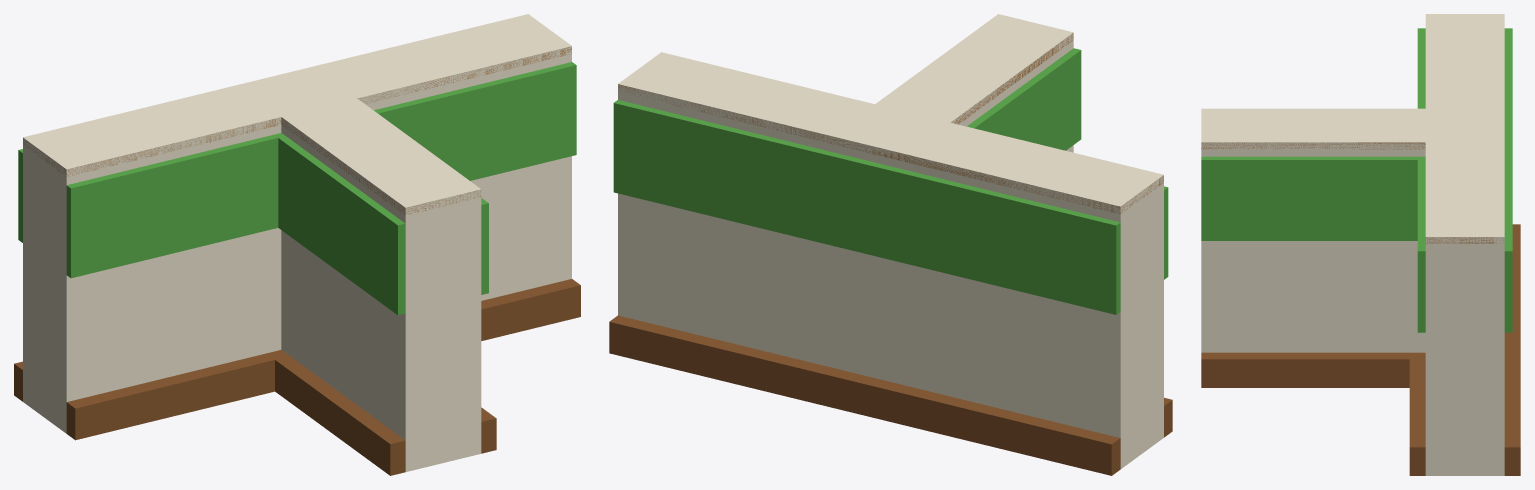
The model's file is partition-tee.glb.
3 renders of one model, left to right at view 1: azimuth 30°, elevation 25°; view 2: azimuth 150°, elevation 25°; view 3: azimuth 270°, elevation 25°, orthographic. The views are drawn at different scales.
Parts seen in each view (by area): view 1: partition-tee; view 2: partition-tee; view 3: partition-tee.
Part boxes in pixels (<box>): partition-tee: <box>14,14,580,475</box>; partition-tee: <box>609,14,1172,475</box>; partition-tee: <box>1201,14,1520,475</box>.
Bounding box in the file's own units: 1 × 0.5 × 0.605.
1 material, 1 textured.
